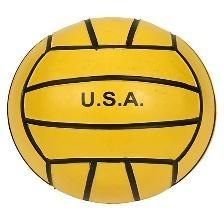Sports-Ball: (7, 18, 215, 202)
